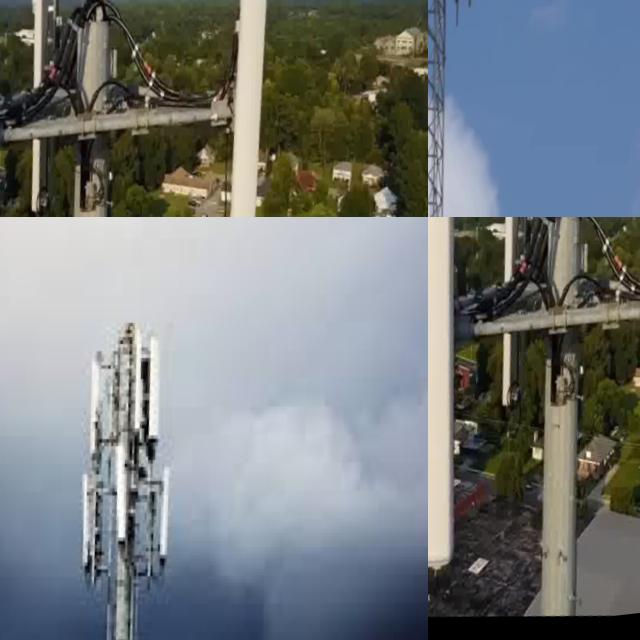GSM Antenna: (191, 0, 294, 217), (3, 0, 75, 217), (469, 217, 543, 424), (530, 217, 599, 394), (428, 217, 456, 588), (61, 0, 121, 127), (133, 333, 170, 458), (141, 453, 176, 574), (96, 439, 132, 549), (76, 351, 106, 456), (66, 473, 95, 573)
